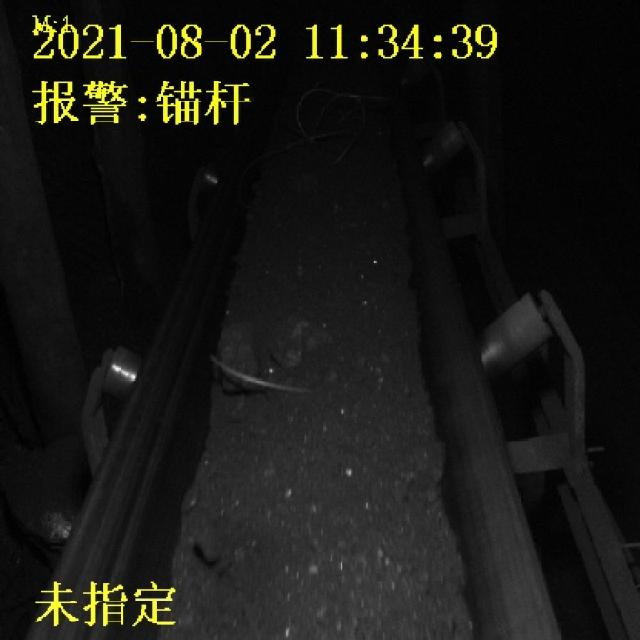bolt: (203, 354, 306, 401)
large_sized_coal: (266, 311, 329, 369), (220, 326, 268, 396)
